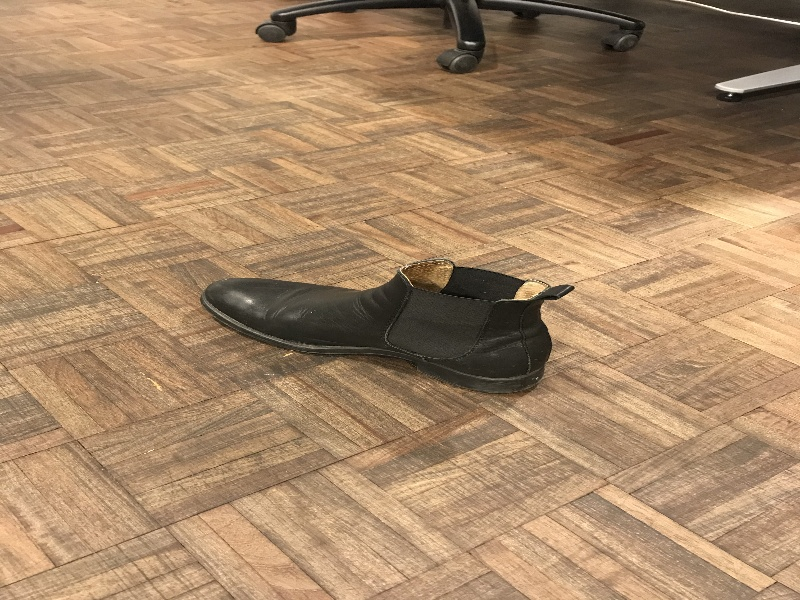shoe: (209, 229, 578, 429)
